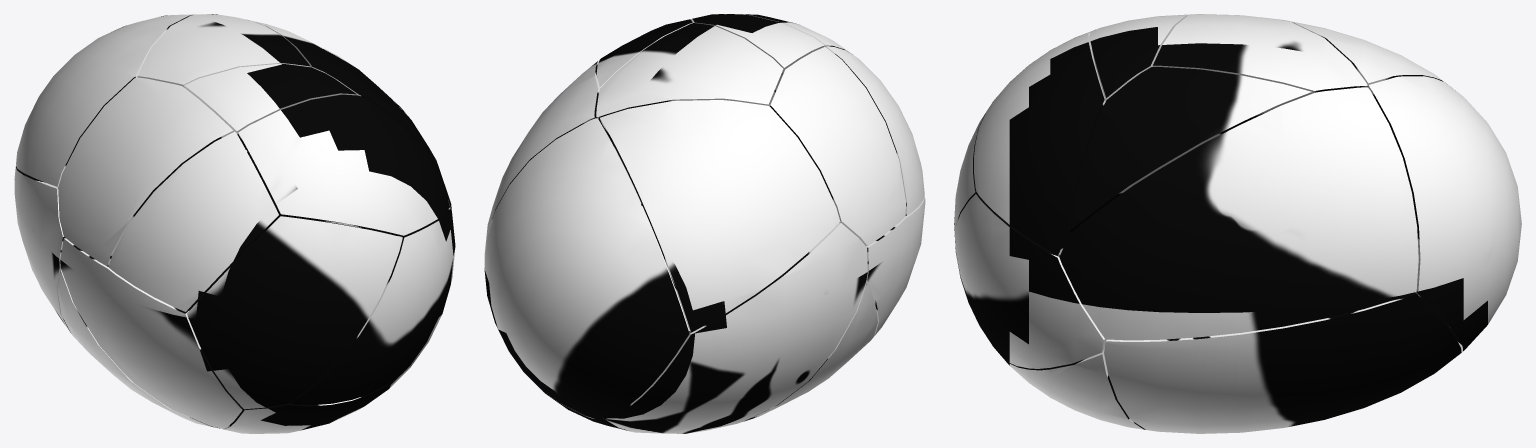
File: egg_fragments_old_UVs.FBX
The picture shows the model from 3 angles, left to right: view 1: azimuth 30°, elevation 25°; view 2: azimuth 150°, elevation 25°; view 3: azimuth 270°, elevation 25°; orthographic projection. The views are drawn at different scales.
Parts seen in each view (by area): view 1: shell003, shell014, shell009, shell010, shell004, shell006, shell015, shell011, shell012, shell007, shell005, shell013 (+2 smaller); view 2: shell016, shell015, shell007, shell009, shell011, shell001, shell004, shell010, shell012, shell002, shell013, shell014; view 3: shell001, shell008, shell016, shell014, shell013, shell006, shell011, shell005, shell012, shell015, shell003.
Boxes of the visible parts, x1,y1,x2,y2 form: shell003: (187,216,402,409); shell014: (238,94,449,235); shell009: (58,77,233,266); shell010: (108,131,278,311); shell004: (60,238,242,428); shell006: (289,208,455,405); shell015: (16,14,200,186); shell011: (137,14,310,89); shell012: (184,63,356,136); shell007: (14,166,70,332); shell005: (224,354,419,433); shell013: (256,22,442,179); shell016: (484,118,689,418); shell015: (600,100,840,332); shell007: (596,223,867,433); shell009: (769,47,905,245); shell011: (596,23,783,122); shell001: (484,60,617,258); shell004: (866,195,925,336); shell010: (826,46,924,215); shell012: (690,14,824,74); shell002: (744,282,877,421); shell013: (596,19,692,87); shell014: (719,14,852,54); shell001: (1059,87,1418,340); shell008: (1104,292,1461,433); shell016: (1368,76,1521,351); shell014: (974,33,1105,255); shell013: (1069,67,1311,231); shell006: (955,193,1106,368); shell011: (1152,14,1367,94); shell005: (1004,348,1145,429); shell012: (1089,15,1189,99); shell015: (1261,17,1452,88); shell003: (954,97,996,236).
Size of the model in its own units: 2.07 by 2.78 by 2.06.
Materials: 1 (1 with a texture image).
